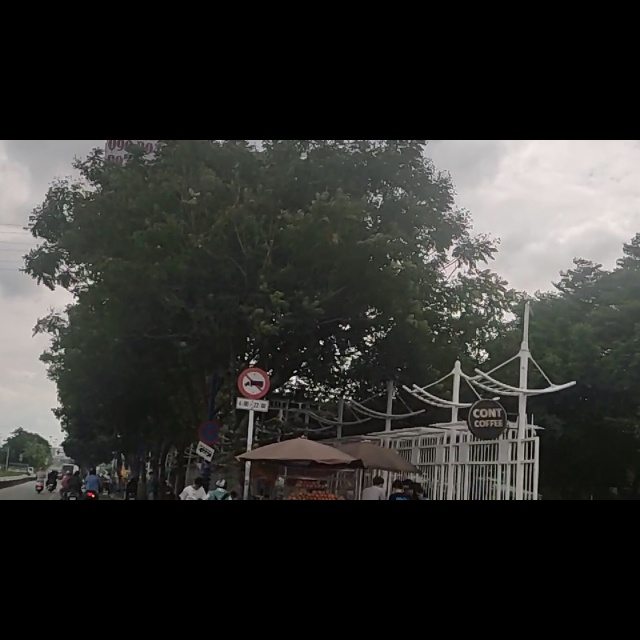bien_cam: (237, 408, 267, 480)
